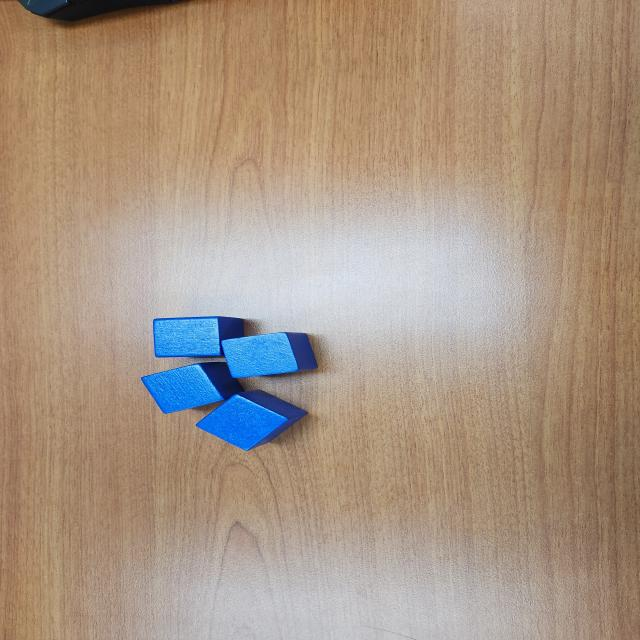blue: (196, 389, 309, 452), (139, 362, 246, 414), (218, 333, 318, 379), (150, 316, 248, 358)
